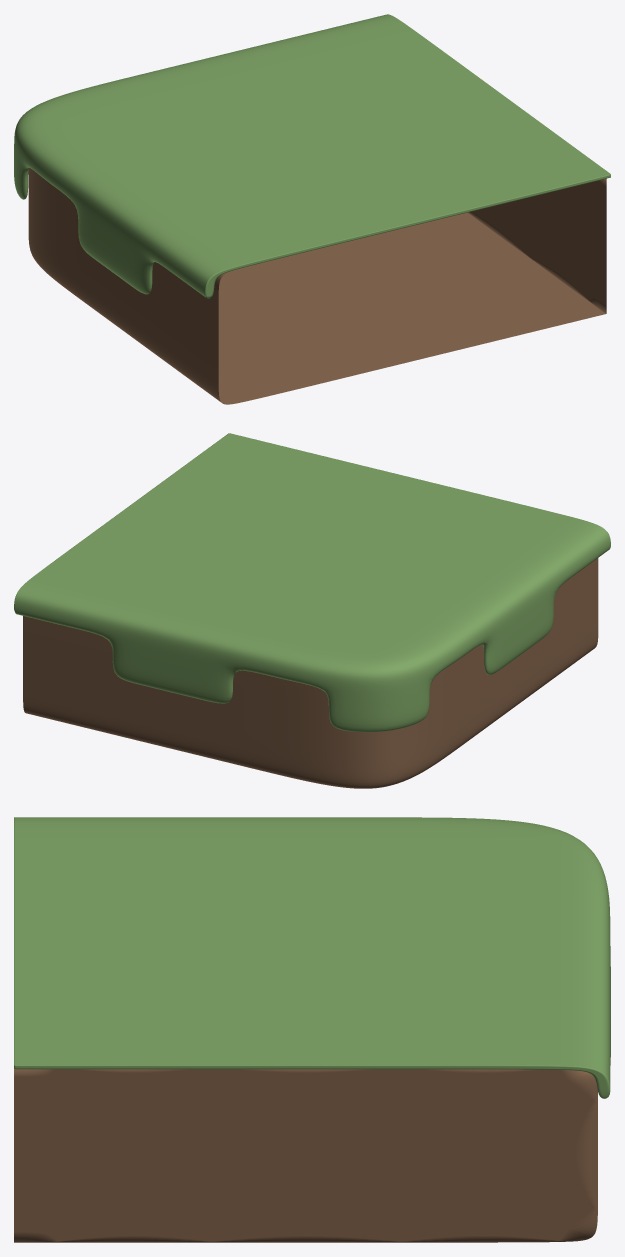
The model's file is Corner part platform.fbx.
3 renders of one model, top to bottom at view 1: azimuth 30°, elevation 25°; view 2: azimuth 150°, elevation 25°; view 3: azimuth 270°, elevation 25°, orthographic. The views are drawn at different scales.
Visible parts, largest first — view 1: Cube.010; view 2: Cube.010; view 3: Cube.010.
Boxes of the visible parts, x1,y1,x2,y2 form: Cube.010: (14,14,610,404); Cube.010: (14,433,610,788); Cube.010: (14,817,610,1242).
Size of the model in its own units: 314 by 102 by 307.
